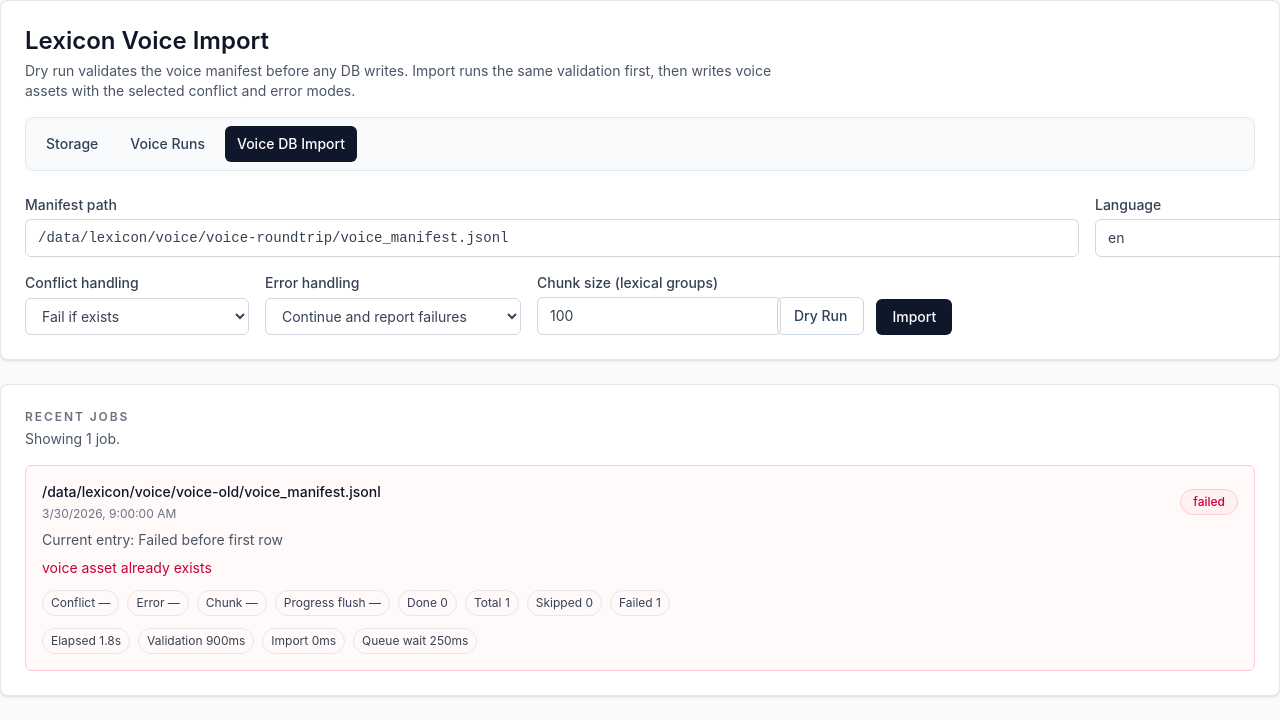
Test: LexiconVoiceImportPage › shows a clear lock conflict message when create returns 409
This screenshot has width=1280, height=720.
Click the button with test id "lexicon-voice-import-run".
click(914, 317)  # box [876, 299, 952, 335]
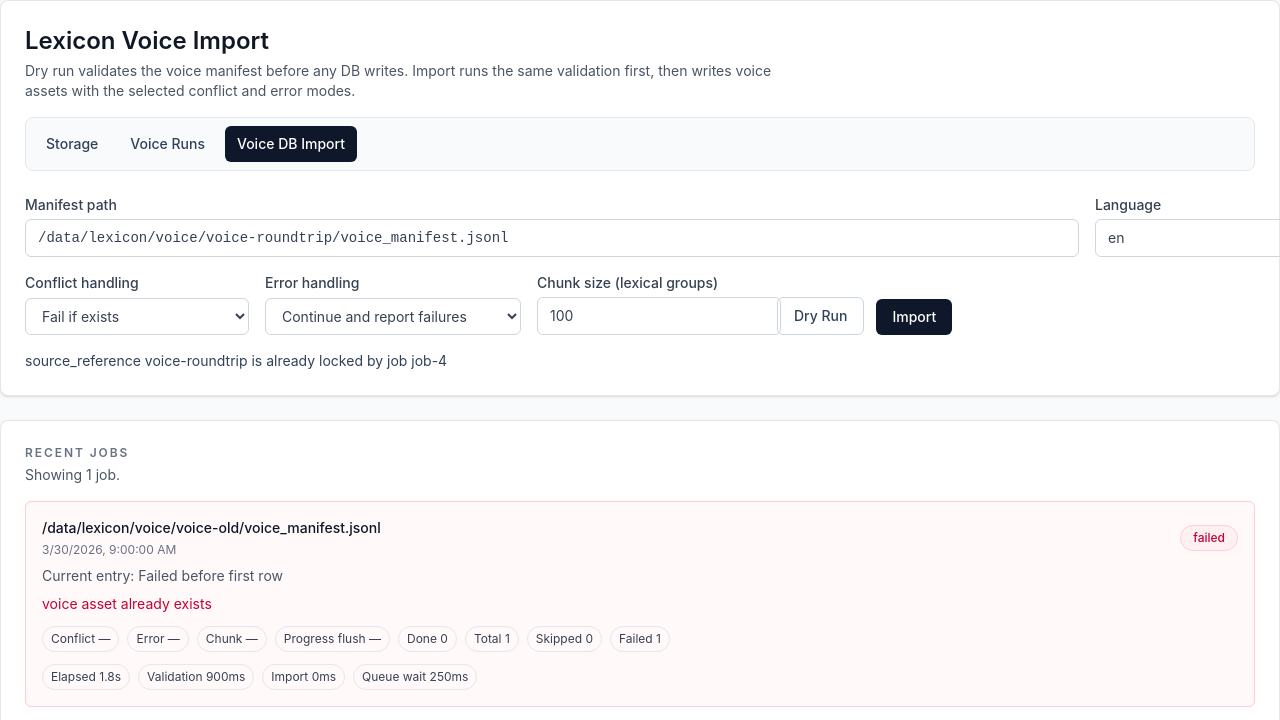
Now the text "source_reference voice-roundtrip is already locked by job job-4" is shown, box [25, 352, 447, 369]
